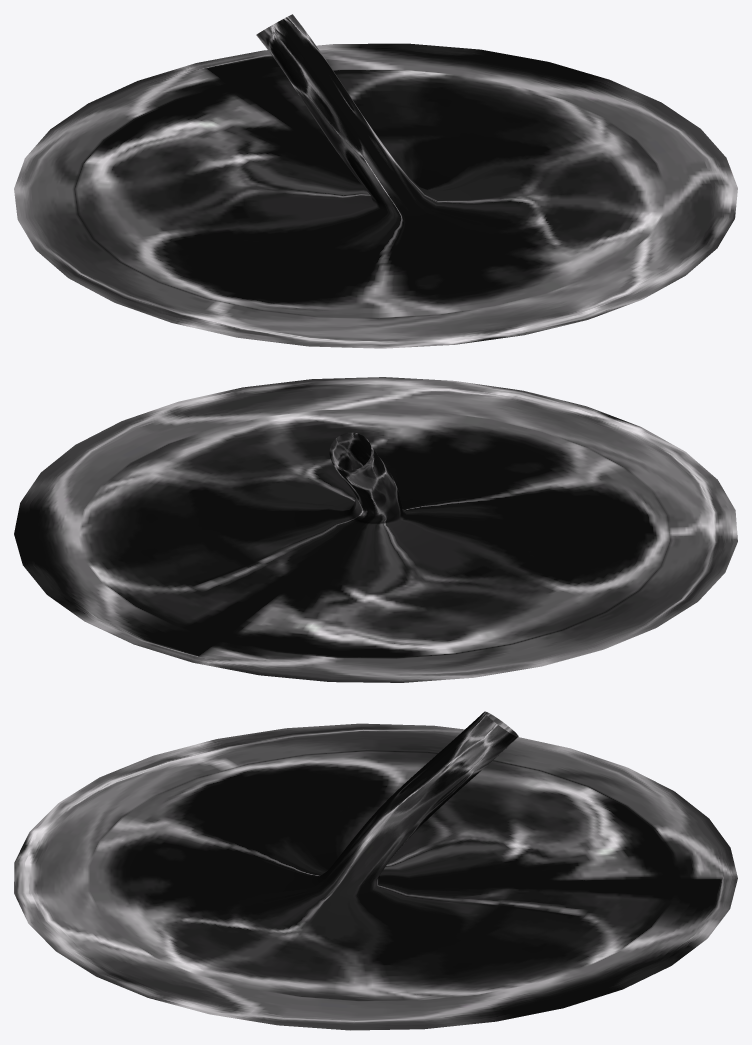
File: fx_nanmojia_long_qiliu_bg.fbx
The picture shows the model from 3 angles, top to bottom: view 1: azimuth 30°, elevation 25°; view 2: azimuth 150°, elevation 25°; view 3: azimuth 270°, elevation 25°; orthographic projection.
Visible parts, largest first — view 1: loftedSurface1; view 2: loftedSurface1; view 3: loftedSurface1.
Part boxes in pixels (x1,y1,x2,y2): loftedSurface1: (14,14,737,348); loftedSurface1: (14,377,737,682); loftedSurface1: (14,711,737,1030).
Bounding box in the file's own units: 4046 × 903 × 4033.
